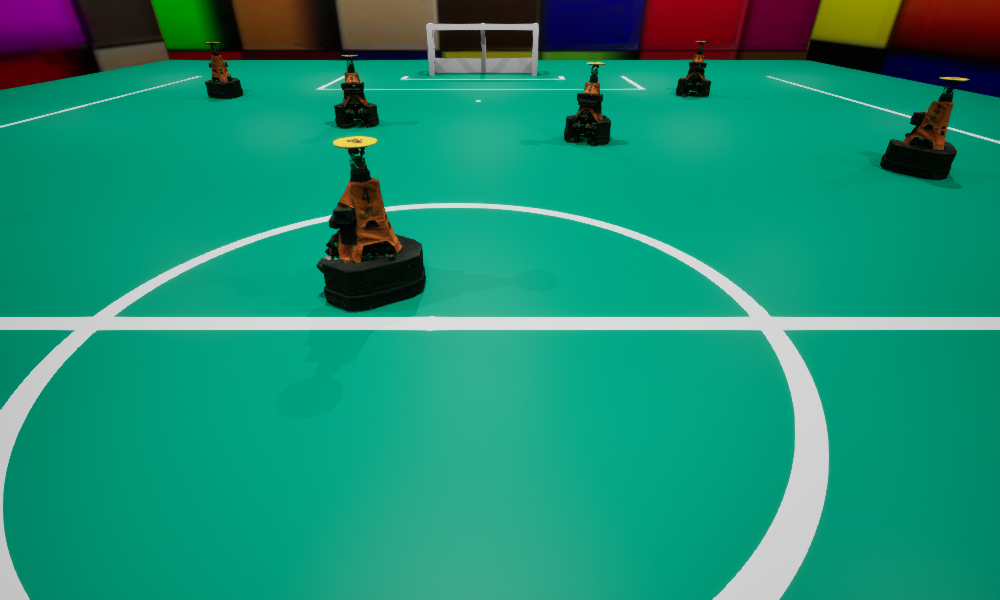0 orange robot TechUnited: (316, 136, 425, 311), (880, 77, 969, 179), (564, 62, 610, 144), (334, 55, 378, 128), (205, 42, 242, 98), (676, 41, 710, 96)
